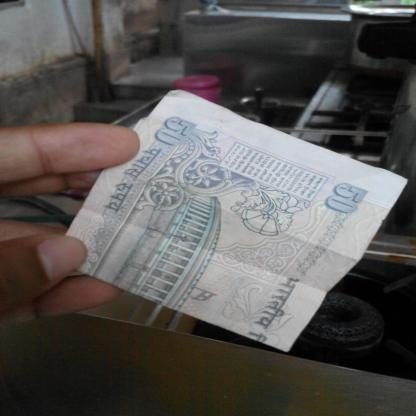Old50Back: (68, 90, 410, 354)
